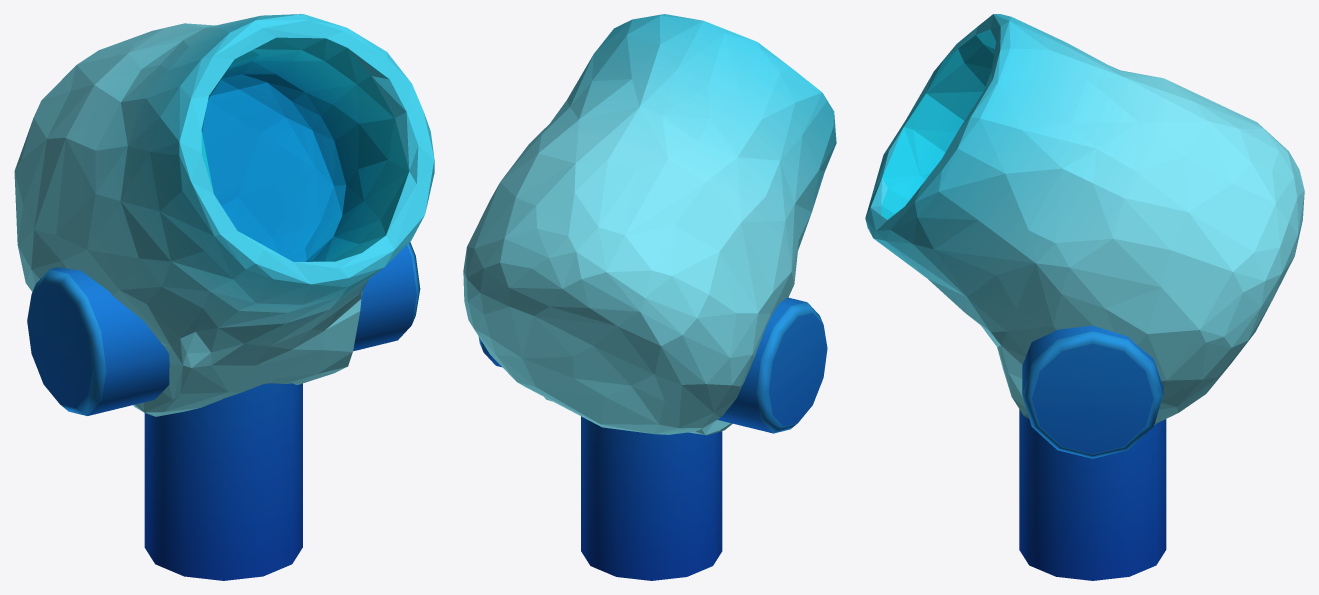
The model's file is cannon_003.fbx.
3 views of the same model, side by side, from view 1: azimuth 30°, elevation 25°; view 2: azimuth 150°, elevation 25°; view 3: azimuth 270°, elevation 25° (orthographic). The views are drawn at different scales.
Parts seen in each view (by area): view 1: cannon_003; view 2: cannon_003; view 3: cannon_003.
Part boxes in pixels (<box>): cannon_003: <box>14,14,434,580</box>; cannon_003: <box>463,14,836,580</box>; cannon_003: <box>865,14,1304,580</box>.
Size of the model in its own units: 519 by 650 by 853.
